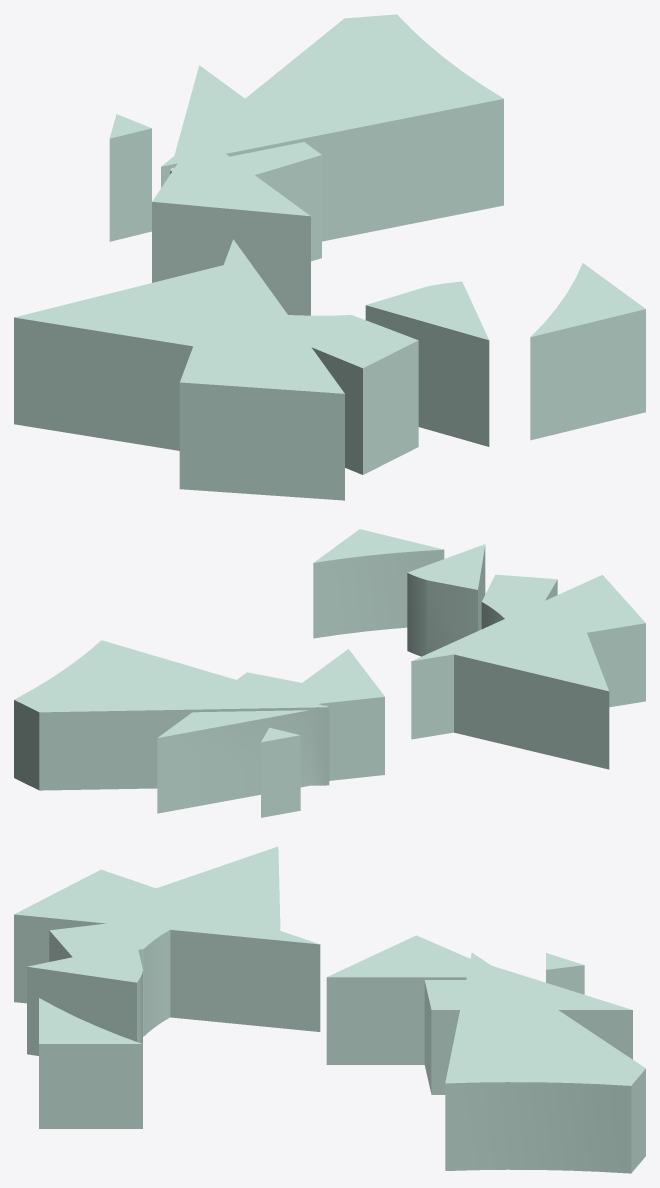
3 views of the same model, one above another, from view 1: azimuth 30°, elevation 25°; view 2: azimuth 150°, elevation 25°; view 3: azimuth 270°, elevation 25° (orthographic). The views are drawn at different scales.
Parts seen in each view (by area): view 1: Renderer Node; view 2: Renderer Node; view 3: Renderer Node.
Part boxes in pixels (x1,y1,x2,y2): Renderer Node: (14, 14, 645, 500); Renderer Node: (14, 529, 645, 817); Renderer Node: (14, 846, 645, 1173).
Bounding box in the file's own units: 1.37 × 0.2578 × 1.53.
